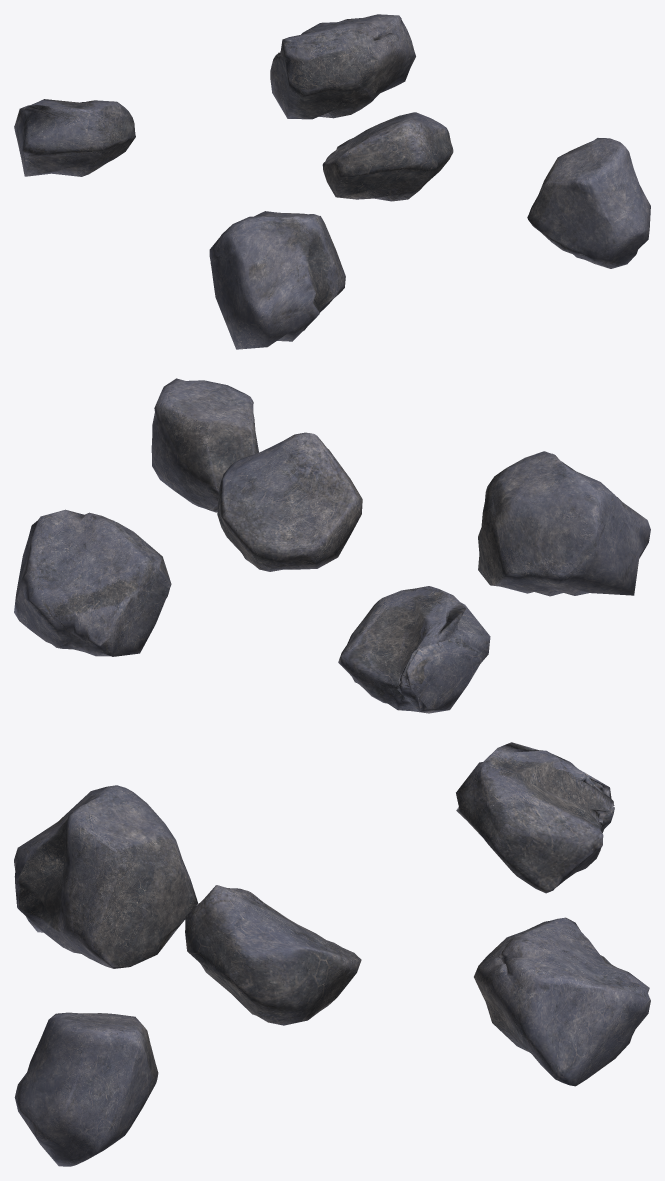
Rendered from group_of_rocks.glb.
3 views of the same model, one above another, from view 1: azimuth 30°, elevation 25°; view 2: azimuth 150°, elevation 25°; view 3: azimuth 270°, elevation 25° (orthographic). The views are drawn at different scales.
Visible parts, largest first — view 1: Rock_02_low, Rock_03_low, Rock_01_low, Rock_04_low, Rock_05_low; view 2: Rock_02_low, Rock_03_low, Rock_04_low, Rock_05_low, Rock_01_low; view 3: Rock_02_low, Rock_03_low, Rock_01_low, Rock_05_low, Rock_04_low.
Part boxes in pixels (left/top/right/bottom): Rock_02_low: left=209, top=211, right=345, bottom=349; Rock_03_low: left=270, top=14, right=415, bottom=119; Rock_01_low: left=527, top=138, right=650, bottom=268; Rock_04_low: left=322, top=112, right=453, bottom=201; Rock_05_low: left=14, top=99, right=135, bottom=176; Rock_02_low: left=478, top=451, right=650, bottom=596; Rock_03_low: left=14, top=509, right=171, bottom=656; Rock_04_low: left=217, top=432, right=362, bottom=571; Rock_05_low: left=338, top=586, right=490, bottom=713; Rock_01_low: left=151, top=378, right=258, bottom=512; Rock_02_low: left=14, top=785, right=198, bottom=968; Rock_03_low: left=474, top=917, right=650, bottom=1086; Rock_01_low: left=14, top=1012, right=158, bottom=1166; Rock_05_low: left=456, top=742, right=614, bottom=893; Rock_04_low: left=185, top=885, right=361, bottom=1025.
Bounding box in the file's own units: 1.5 × 0.4373 × 1.39.
Materials: 1 (1 with a texture image).
